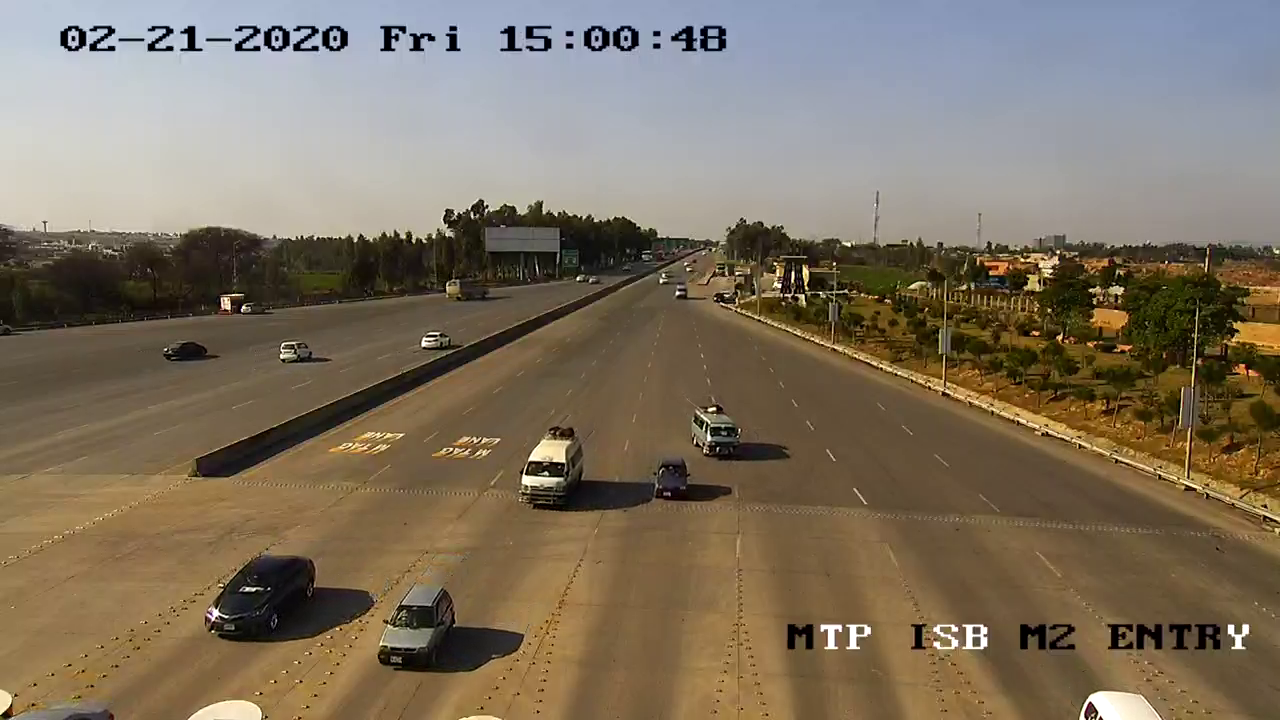f1: (194, 537, 335, 649), (360, 575, 475, 680), (640, 452, 697, 514)
f2: (681, 397, 749, 465)
f3: (502, 423, 602, 514)
